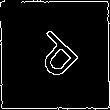P_SE: (24, 24, 86, 86)
